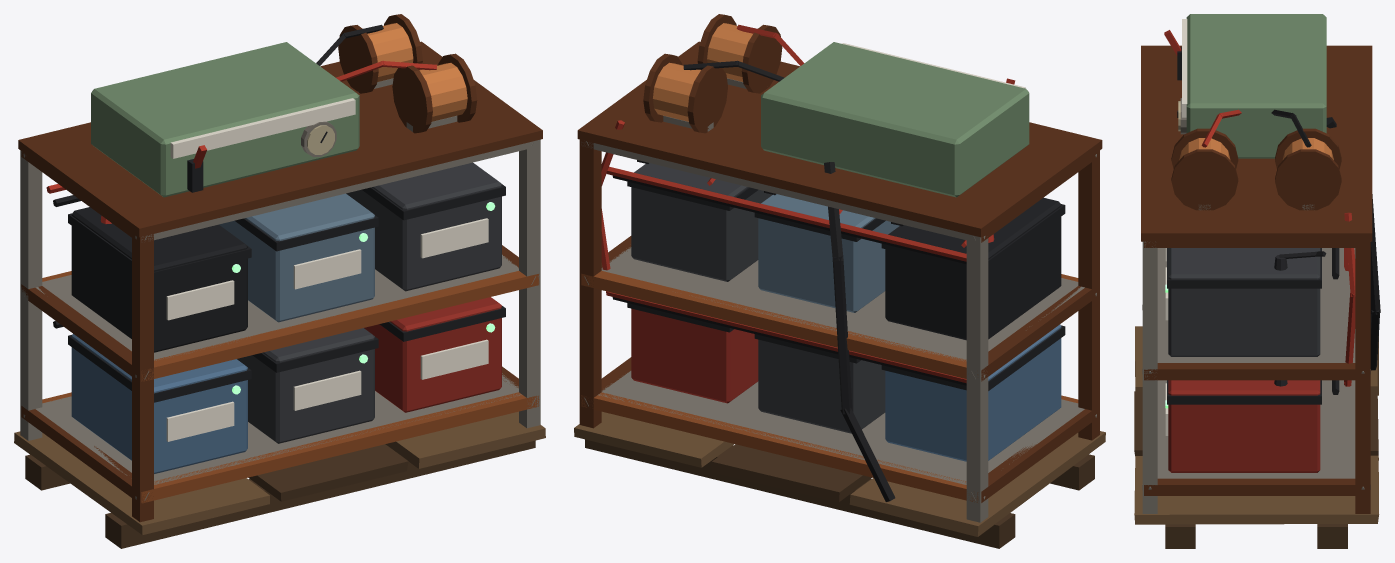
Rendered from battery_station.glb.
The picture shows the model from 3 angles, left to right: view 1: azimuth 30°, elevation 25°; view 2: azimuth 150°, elevation 25°; view 3: azimuth 270°, elevation 25°; orthographic projection. The views are drawn at different scales.
Parts seen in each view (by area): view 1: battery_station, battery_station_cell3, battery_station_cell0, battery_station_cell4, battery_station_cell5, battery_station_cell1, battery_station_cell2; view 2: battery_station, battery_station_cell3, battery_station_cell0, battery_station_cell5, battery_station_cell4, battery_station_cell2, battery_station_cell1; view 3: battery_station, battery_station_cell5, battery_station_cell2.
Part boxes in pixels (<box>): battery_station: <box>14,14,545,548</box>; battery_station_cell3: <box>68,207,251,352</box>; battery_station_cell0: <box>68,334,251,473</box>; battery_station_cell4: <box>219,193,378,322</box>; battery_station_cell5: <box>346,162,505,291</box>; battery_station_cell1: <box>237,328,378,443</box>; battery_station_cell2: <box>364,297,505,412</box>; battery_station: <box>574,14,1105,548</box>; battery_station_cell3: <box>881,197,1065,340</box>; battery_station_cell0: <box>881,324,1065,461</box>; battery_station_cell5: <box>627,160,772,281</box>; battery_station_cell4: <box>754,191,899,312</box>; battery_station_cell2: <box>627,303,758,403</box>; battery_station_cell1: <box>754,334,885,433</box>; battery_station: <box>1134,14,1380,548</box>; battery_station_cell5: <box>1165,248,1326,356</box>; battery_station_cell2: <box>1165,380,1321,472</box>.
Size of the model in its own units: 1.5 by 1.37 by 0.8102.
